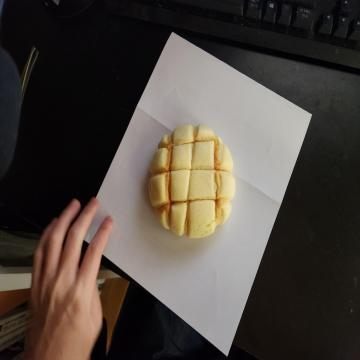melon_bread: (144, 125, 236, 241)
